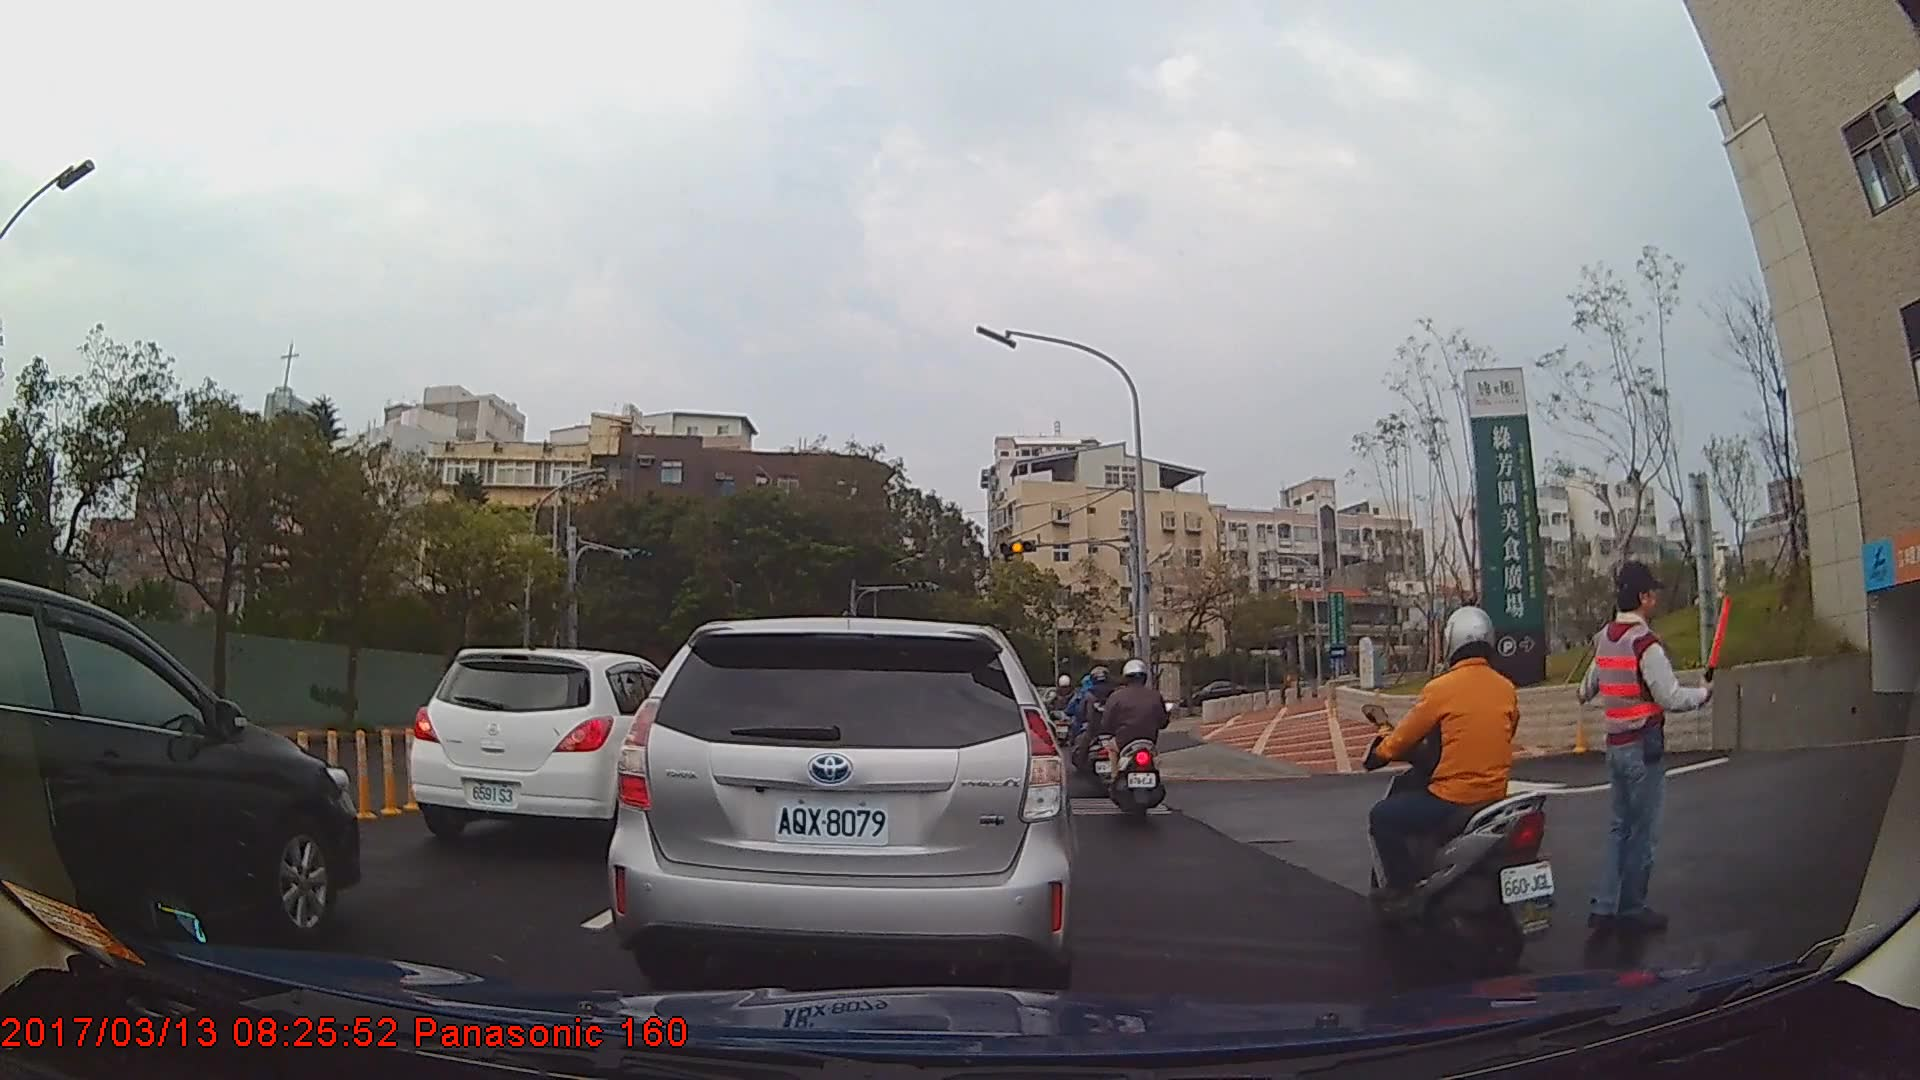pedestrian: (1572, 563, 1734, 936)
rider: (1363, 603, 1560, 972), (1106, 653, 1177, 835), (1076, 667, 1121, 790), (1046, 671, 1076, 752)
vehicle: (607, 618, 1072, 983), (0, 574, 361, 957), (408, 648, 713, 846), (1182, 677, 1250, 710)
